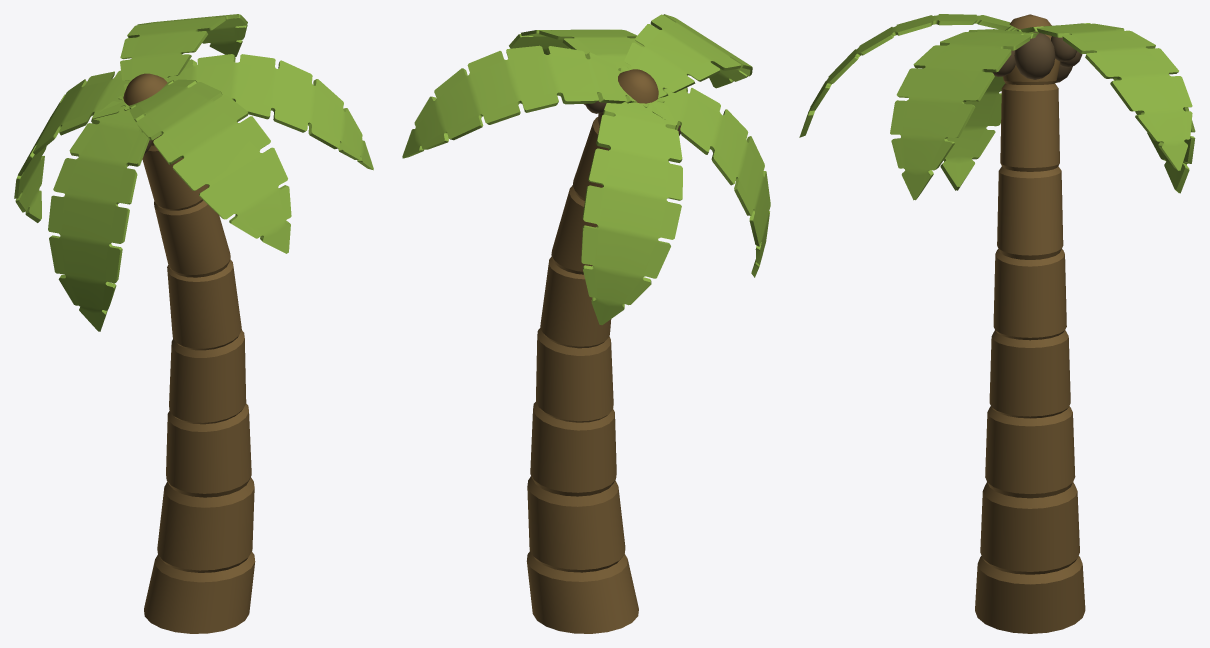
The model's file is SM_PalmTree_4m.fbx.
3 views of the same model, side by side, from view 1: azimuth 30°, elevation 25°; view 2: azimuth 150°, elevation 25°; view 3: azimuth 270°, elevation 25° (orthographic). The views are drawn at different scales.
Visible parts, largest first — view 1: FourM_Tree; view 2: FourM_Tree; view 3: FourM_Tree.
Boxes of the visible parts, x1,y1,x2,y2 form: FourM_Tree: (14, 14, 373, 633); FourM_Tree: (402, 14, 770, 633); FourM_Tree: (799, 14, 1195, 633).
Size of the model in its own units: 201 by 388 by 236.
